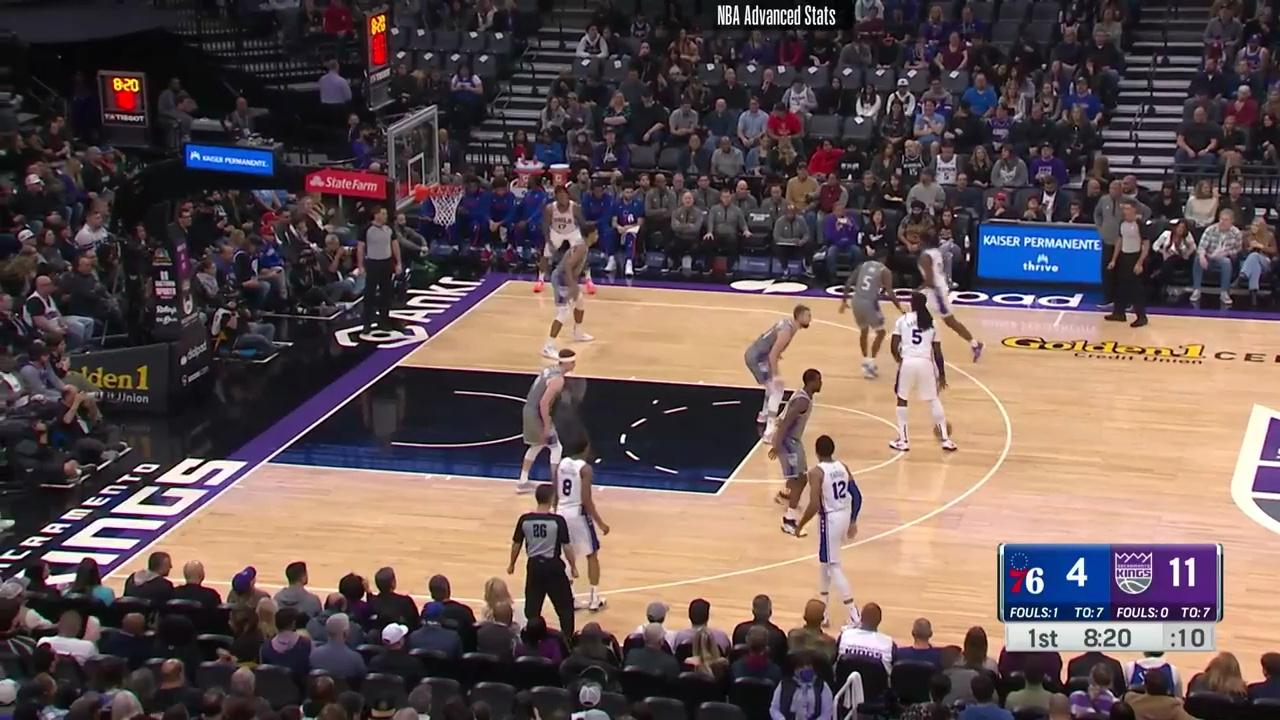Backboard: (387, 105, 437, 218)
Ball: (933, 421, 952, 441)
Basket: (426, 184, 467, 227)
Dribble: (938, 438, 942, 443)
Person: (801, 432, 869, 632), (890, 294, 959, 471), (512, 481, 586, 636), (902, 229, 980, 366), (550, 441, 611, 610), (744, 300, 813, 426), (541, 226, 605, 359), (519, 350, 580, 489), (774, 366, 825, 530), (841, 249, 901, 377), (351, 205, 407, 327), (540, 186, 597, 297), (1115, 201, 1157, 335)
Shot Clock: (95, 69, 157, 148), (360, 8, 398, 110)
